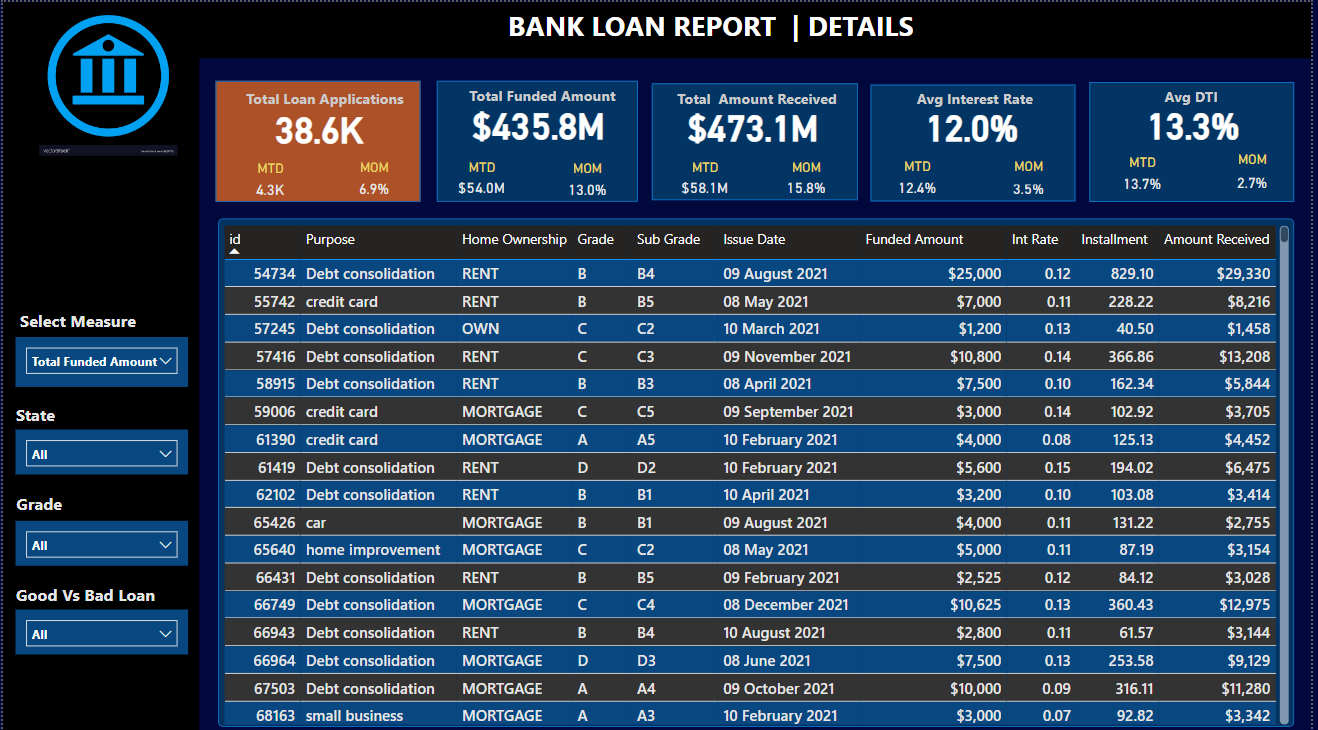

The page's visual inventory and layout, read from the dashboard file:
{"tool":"powerbi","page":{"name":"Details","canvas":[1280,720],"ordinal":2},"visuals":[{"type":"shape","box":[0,54.9,192,665.5],"z":0},{"type":"shape","box":[207.8,77,200.5,118.6],"z":0,"group":"g1"},{"type":"shape","box":[424.6,77,196.8,118.6],"z":0,"group":"g2"},{"type":"shape","box":[1062.3,78.2,200.5,117.4],"z":0,"group":"g5"},{"type":"shape","box":[634.4,79.9,201.7,114.5],"z":0,"group":"g3"},{"type":"shape","box":[848.4,80,200.5,114.4],"z":0,"group":"g4"},{"type":"card","fields":{"Values":["financial_loan.Total Funded Amount"]},"box":[450.7,90.4,147.9,57.5],"z":1000,"group":"g2"},{"type":"card","fields":{"Values":["financial_loan.Average Interest Rate"]},"box":[873.6,92.3,146.7,56.2],"z":1000,"group":"g4"},{"type":"card","fields":{"Values":["financial_loan.Total Amount Received"]},"box":[658.3,92.4,149.1,55],"z":1000,"group":"g3"},{"type":"card","fields":{"Values":["financial_loan.Avg DTI"]},"box":[1090.1,92.7,146.7,52.6],"z":1000,"group":"g5"},{"type":"card","fields":{"Values":["financial_loan.Total Loan Application"]},"box":[253.3,95.3,112.5,55],"z":1000,"group":"g1"},{"type":"shape","box":[210.3,211.5,1052.5,497.5],"z":1000},{"type":"shape","box":[0,0,1280.3,55],"z":2000},{"type":"textbox","box":[444.1,77,167.5,38.9],"z":2000,"group":"g2"},{"type":"textbox","box":[1073,78,177.2,31.8],"z":2000,"group":"g5"},{"type":"textbox","box":[220,78.9,189.5,33],"z":2000,"group":"g1"},{"type":"textbox","box":[860.2,78.9,179.7,29.3],"z":2000,"group":"g4"},{"type":"textbox","box":[645.7,79.5,184,31.1],"z":2000,"group":"g3"},{"type":"card","title":"MTD","fields":{"Values":["financial_loan.MTD Avg DTI"]},"box":[1081.8,149.2,64.6,38.9],"z":3000,"group":"g5"},{"type":"card","title":"MTD","fields":{"Values":["financial_loan.MTD Avg Int Rate"]},"box":[860.4,152.5,67.1,38.3],"z":3000,"group":"g4"},{"type":"card","title":"MTD","fields":{"Values":["financial_loan.MTD Total Amount Received"]},"box":[655,153.7,62.6,40.7],"z":3000,"group":"g3"},{"type":"card","title":"MTD","fields":{"Values":["financial_loan.MTD Funded Amount"]},"box":[435.9,154,66,40.3],"z":3000,"group":"g2"},{"type":"card","title":"MTD","fields":{"Values":["financial_loan.MTD Loan Applications"]},"box":[237.4,155.2,48.9,39.1],"z":3000,"group":"g1"},{"type":"textbox","box":[7.3,474.3,56.2,48.9],"z":3000},{"type":"card","title":"MOM","fields":{"Values":["financial_loan.MOM Avg DTI"]},"box":[1195.2,146.9,52.4,49.2],"z":4000,"group":"g5"},{"type":"card","title":"MOM","fields":{"Values":["financial_loan.MOM Avg Int Rate"]},"box":[976.3,152.5,52.4,35.9],"z":4000,"group":"g4"},{"type":"card","title":"MOM","fields":{"Values":["financial_loan.MOM Total Amount Received"]},"box":[756.8,153.7,57.7,40.7],"z":4000,"group":"g3"},{"type":"card","title":"MOM","fields":{"Values":["financial_loan.MOM Loan Applications"]},"box":[337.6,154,51.3,39.1],"z":4000,"group":"g1"},{"type":"card","title":"MOM","fields":{"Values":["financial_loan.MOM Funded Amount"]},"box":[544.7,155.2,55,39.1],"z":4000,"group":"g2"},{"type":"textbox","box":[0,563.5,161.4,55],"z":4000},{"type":"textbox","box":[0,387.5,63.6,63.6],"z":5000},{"type":"textbox","box":[489.3,0,565.3,55.2],"z":6000},{"type":"group","id":"g1","title":"Group 1","box":[207.8,77,201.7,118.6],"z":7000},{"type":"group","id":"g2","title":"Group 1","box":[424.6,77,196.8,118.6],"z":8000},{"type":"group","id":"g3","title":"Group 1","box":[634.4,79.5,201.7,114.9],"z":9000},{"type":"group","id":"g4","title":"Group 1","box":[848.4,78.9,200.5,115.5],"z":10000},{"type":"group","id":"g5","title":"Group 1","box":[1062.3,78,200.5,118.1],"z":11000},{"type":"slicer","fields":{"Values":["financial_loan.address_state"]},"box":[12.2,418.1,168.7,44],"z":12000},{"type":"slicer","fields":{"Values":["financial_loan.grade"]},"box":[12.2,507.3,168.7,44],"z":13000},{"type":"slicer","fields":{"Values":["financial_loan.Good Vs Bad Loan"]},"box":[12.2,594.1,168.7,44],"z":14000},{"type":"slicer","fields":{"Values":["Select Measures.Select Measures"]},"box":[12.2,327.6,168.7,48.9],"z":15000},{"type":"textbox","box":[0,295.8,146.7,56.2],"z":16000},{"type":"tableEx","fields":{"Values":["financial_loan.id","financial_loan.purpose","financial_loan.home_ownership","financial_loan.grade","financial_loan.sub_grade","financial_loan.issue_date","financial_loan.Total Funded Amount","Sum(financial_loan.int_rate)","Sum(financial_loan.installment)","financial_loan.Total Amount Received"]},"box":[210.3,213.9,1052.5,497.5],"z":17000},{"type":"image","box":[12.2,0,180.9,155.2],"z":18000},{"type":"pageNavigator","box":[0,228.6,111.2,50.1],"z":19000}]}

Visuals, with their boxes in screenshot pixels (x1, y1, x2, y2), scaled from the page's 1280x720 canvas onto the 1318x730 screenshot:
shape: select_region(0, 56, 198, 729)
shape: select_region(214, 78, 420, 198)
shape: select_region(437, 78, 640, 198)
shape: select_region(1094, 79, 1300, 198)
shape: select_region(653, 81, 861, 197)
shape: select_region(874, 81, 1080, 197)
card - financial_loan.Total Funded Amount: select_region(464, 92, 616, 150)
card - financial_loan.Average Interest Rate: select_region(900, 94, 1051, 151)
card - financial_loan.Total Amount Received: select_region(678, 94, 831, 149)
card - financial_loan.Avg DTI: select_region(1122, 94, 1274, 147)
card - financial_loan.Total Loan Application: select_region(261, 97, 377, 152)
shape: select_region(217, 214, 1300, 719)
shape: select_region(0, 0, 1317, 56)
textbox: select_region(457, 78, 630, 118)
textbox: select_region(1105, 79, 1287, 111)
textbox: select_region(227, 80, 422, 113)
textbox: select_region(886, 80, 1071, 110)
textbox: select_region(665, 81, 854, 112)
"MTD" card: select_region(1114, 151, 1180, 191)
"MTD" card: select_region(886, 155, 955, 193)
"MTD" card: select_region(674, 156, 739, 197)
"MTD" card: select_region(449, 156, 517, 197)
"MTD" card: select_region(244, 157, 295, 197)
textbox: select_region(8, 481, 65, 530)
"MOM" card: select_region(1231, 149, 1285, 199)
"MOM" card: select_region(1005, 155, 1059, 191)
"MOM" card: select_region(779, 156, 839, 197)
"MOM" card: select_region(348, 156, 400, 196)
"MOM" card: select_region(561, 157, 618, 197)
textbox: select_region(0, 571, 166, 627)
textbox: select_region(0, 393, 65, 457)
textbox: select_region(504, 0, 1086, 56)
"Group 1" group: select_region(214, 78, 422, 198)
"Group 1" group: select_region(437, 78, 640, 198)
"Group 1" group: select_region(653, 81, 861, 197)
"Group 1" group: select_region(874, 80, 1080, 197)
"Group 1" group: select_region(1094, 79, 1300, 199)
slicer - financial_loan.address_state: select_region(13, 424, 186, 469)
slicer - financial_loan.grade: select_region(13, 514, 186, 559)
slicer - financial_loan.Good Vs Bad Loan: select_region(13, 602, 186, 647)
slicer - Select Measures.Select Measures: select_region(13, 332, 186, 382)
textbox: select_region(0, 300, 151, 357)
tableEx - financial_loan.id x financial_loan.purpose: select_region(217, 217, 1300, 721)
image: select_region(13, 0, 199, 157)
pageNavigator: select_region(0, 232, 115, 283)
